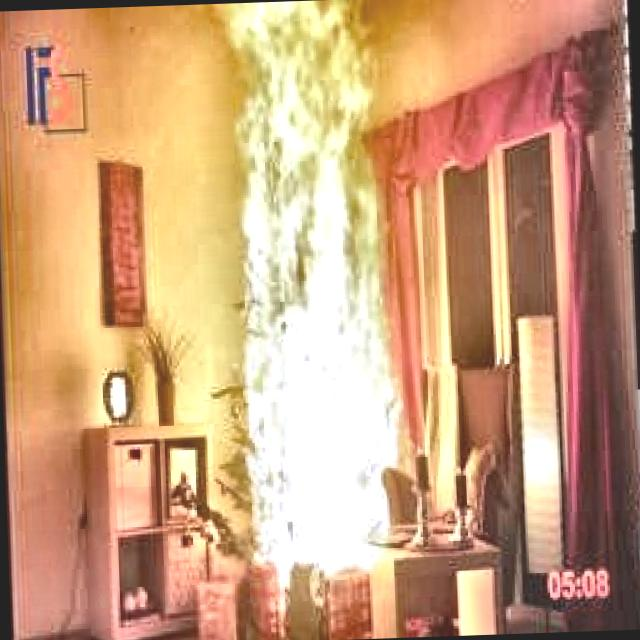fire: (164, 0, 465, 604)
